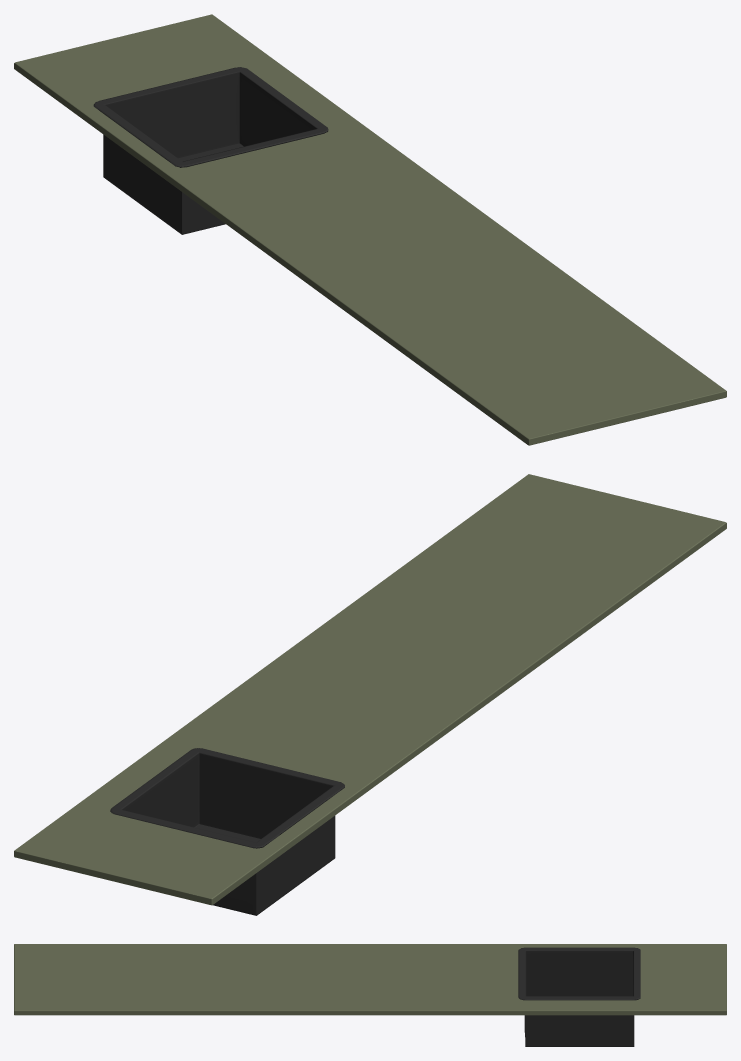
The model's file is furniture_1.glb.
3 views of the same model, one above another, from view 1: azimuth 30°, elevation 25°; view 2: azimuth 150°, elevation 25°; view 3: azimuth 270°, elevation 25° (orthographic). The views are drawn at different scales.
Parts seen in each view (by area): view 1: GF_Plane.056, GF_Plane.062; view 2: GF_Plane.056, GF_Plane.062; view 3: GF_Plane.056, GF_Plane.062.
Boxes of the visible parts, bbox=[...] form: GF_Plane.056: bbox=[14, 14, 726, 445]; GF_Plane.062: bbox=[93, 67, 328, 234]; GF_Plane.056: bbox=[14, 474, 726, 905]; GF_Plane.062: bbox=[110, 748, 344, 915]; GF_Plane.056: bbox=[14, 944, 726, 1015]; GF_Plane.062: bbox=[518, 947, 640, 1046].
Size of the model in its own units: 0.5801 by 0.2031 by 2.6.
